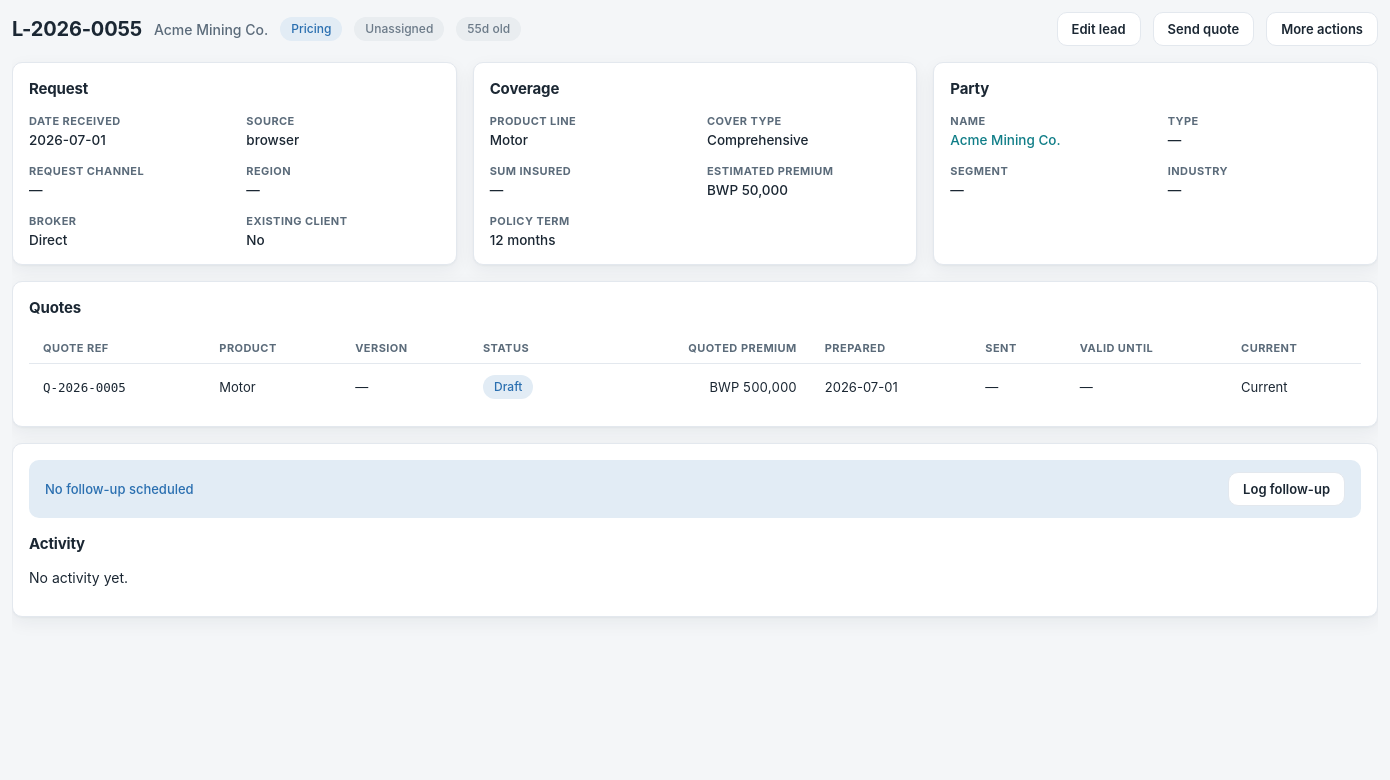
LeadDetailPage › render_WhenDraftQuoteExists_ShouldShowSendQuoteAsPrimaryActionAndMoveLeadOpToMoreActions
Expected: the button with test id "primary-workflow-action" reads "Send quote", [1153,12,1254,46]
# The lead-level op that would otherwise have been primary now appears in More actions instead.
Click the button with test id "more-actions-trigger" at (1322, 29), box [1266,12,1378,46]
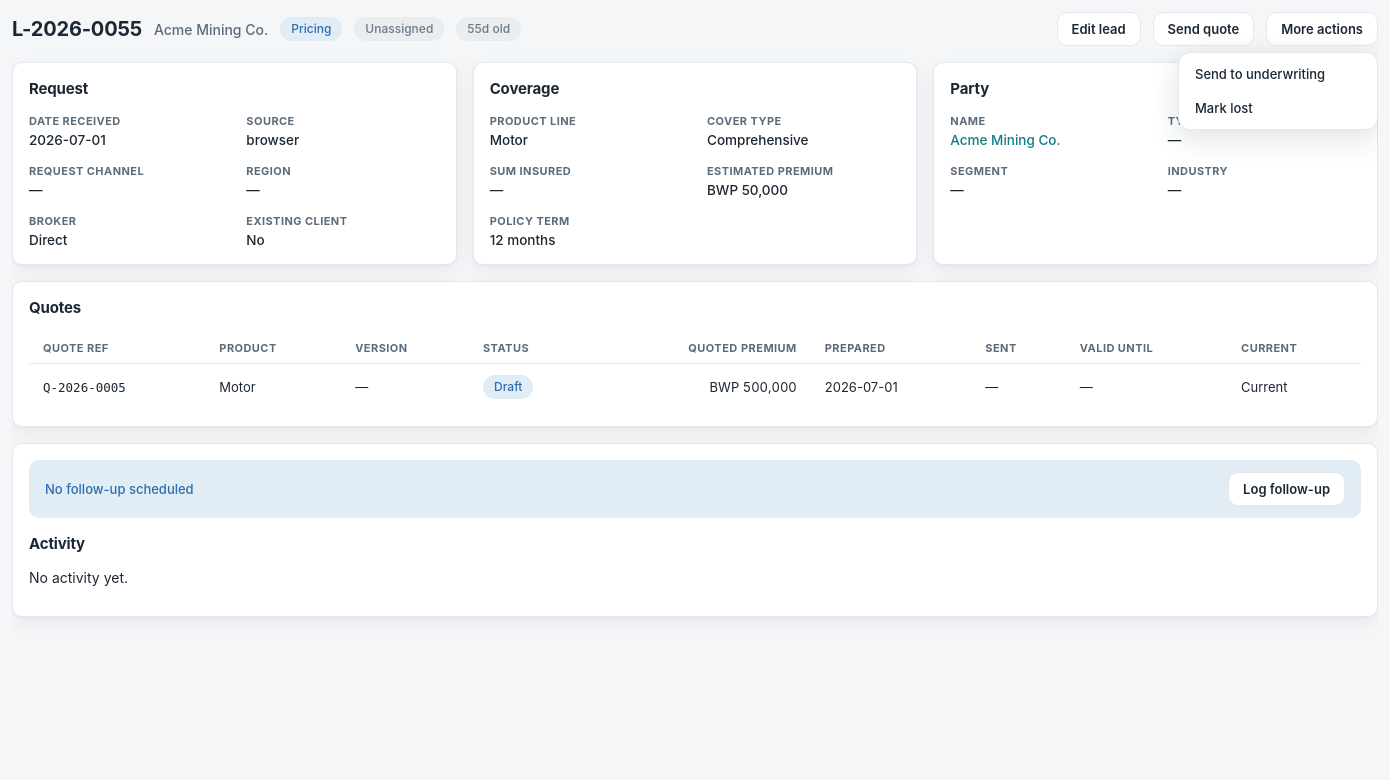
Now the menu item with test id "more-action-send-to-underwriting" is shown, box [1183,57,1373,91]
